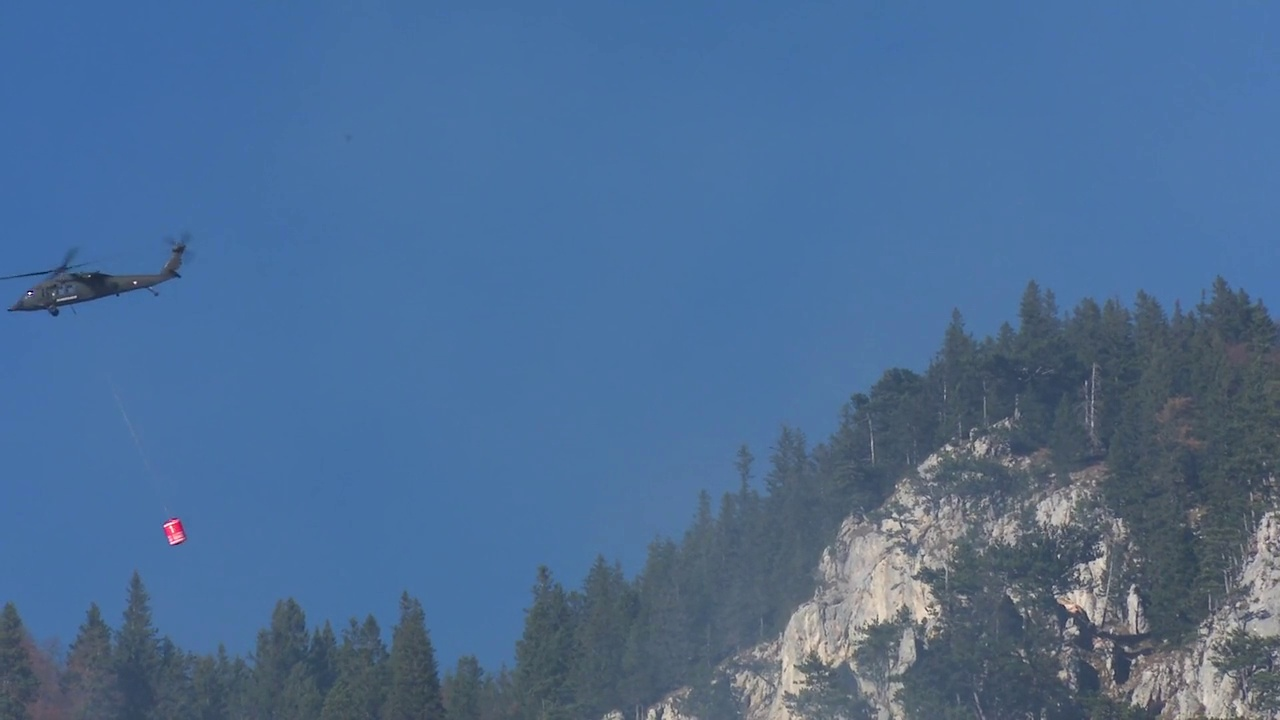heli: (0, 231, 196, 317)
